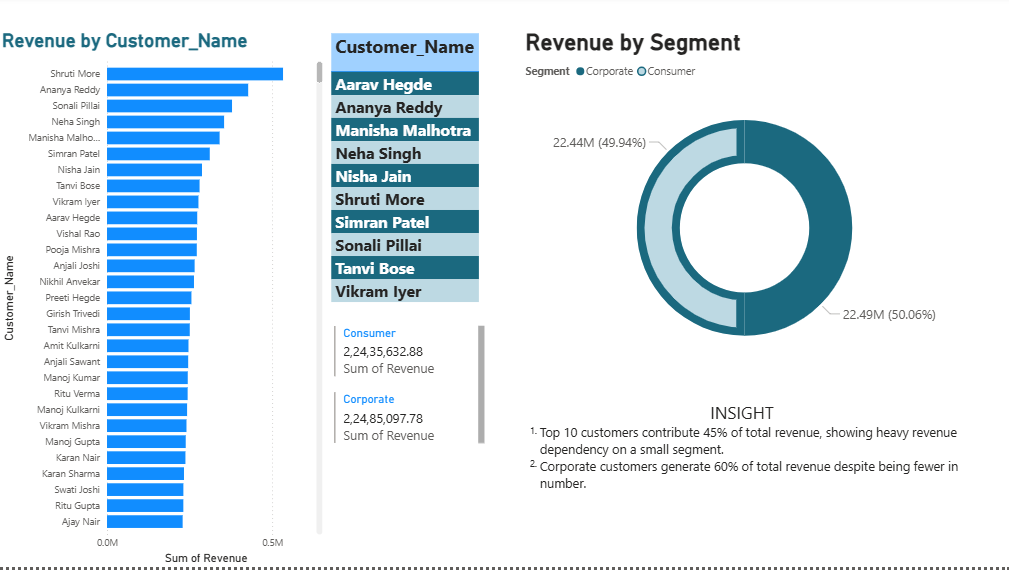

What the dashboard file says about the page in this screenshot:
{"tool":"powerbi","page":{"name":"High Value Customers","canvas":[1280,720],"ordinal":2},"visuals":[{"type":"tableEx","fields":{"Values":["Dim_Customers.Customer_Name"]},"box":[413.8,41.6,207.9,351.5],"z":0},{"type":"clusteredBarChart","title":"Revenue by Customer_Name","fields":{"Category":["sales_dataset.Customer_Name"],"Y":["Sum(sales_dataset.Revenue)"]},"box":[0,41.6,413.9,678.4],"z":1000},{"type":"multiRowCard","fields":{"Values":["Dim_Customers.Segment","Sum(Fact_Orders.Revenue)"]},"box":[417.5,410.1,200.3,170.1],"z":2000},{"type":"donutChart","title":"Revenue by Segment","fields":{"Category":["Dim_Customers.Segment"],"Y":["Sum(Fact_Orders.Revenue)"]},"box":[659.4,41.6,561.3,438.4],"z":3000},{"type":"textbox","box":[659.4,504.6,561.3,149.3],"z":4000}]}

Visuals, with their boxes in screenshot pixels (x1, y1, x2, y2), scaled from the page's 1280x720 canvas onto the 1009x571 screenshot:
tableEx - Dim_Customers.Customer_Name: bbox=(326, 33, 490, 312)
"Revenue by Customer_Name" clusteredBarChart: bbox=(0, 33, 326, 570)
multiRowCard - Dim_Customers.Segment x Sum(Fact_Orders.Revenue): bbox=(329, 325, 487, 460)
"Revenue by Segment" donutChart: bbox=(520, 33, 962, 381)
textbox: bbox=(520, 400, 962, 519)
